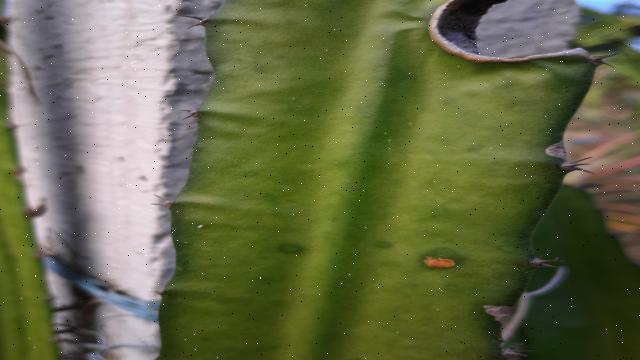stemcanker: (410, 253, 471, 275)
